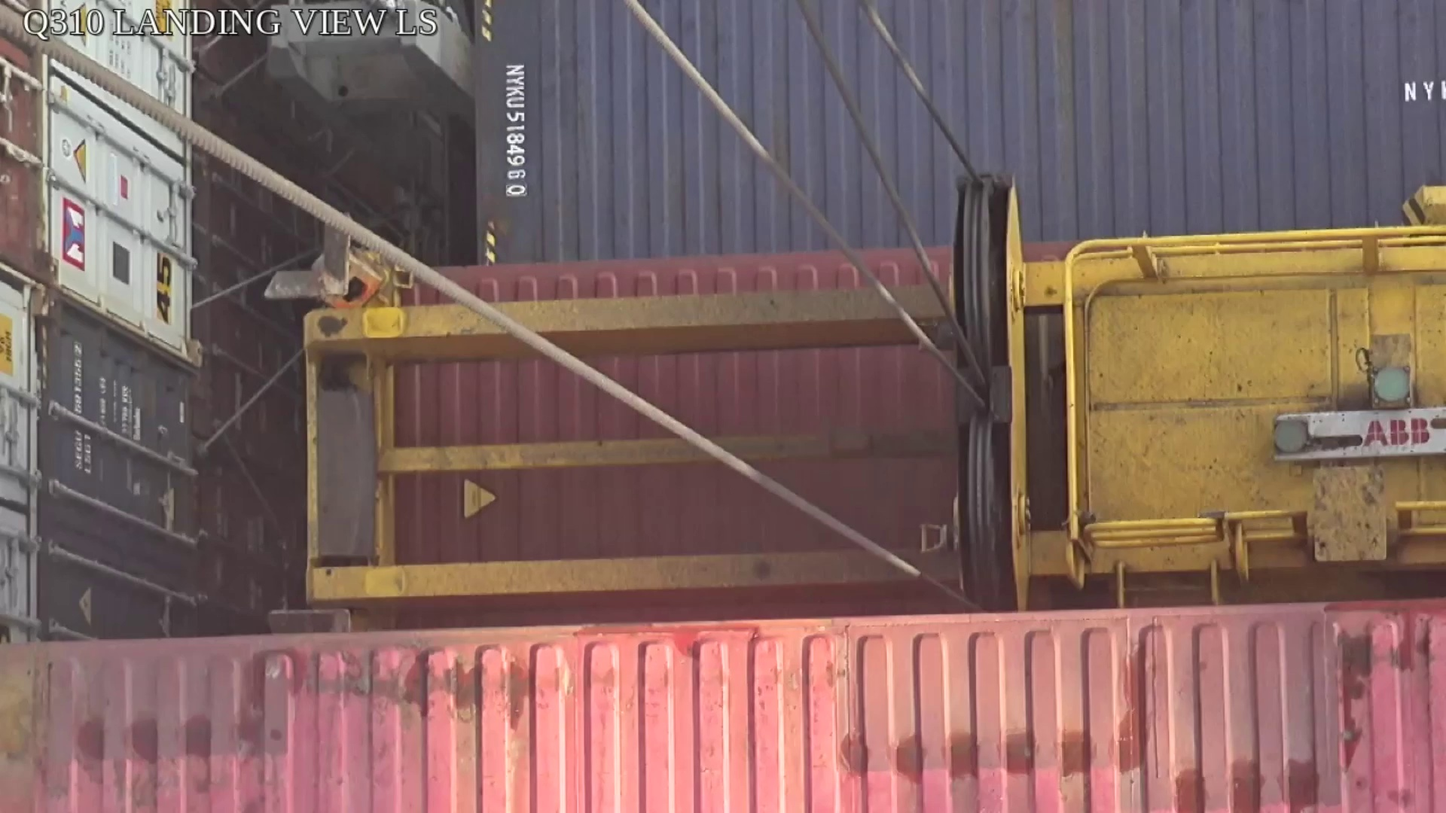aa: (951, 178, 1033, 613)
